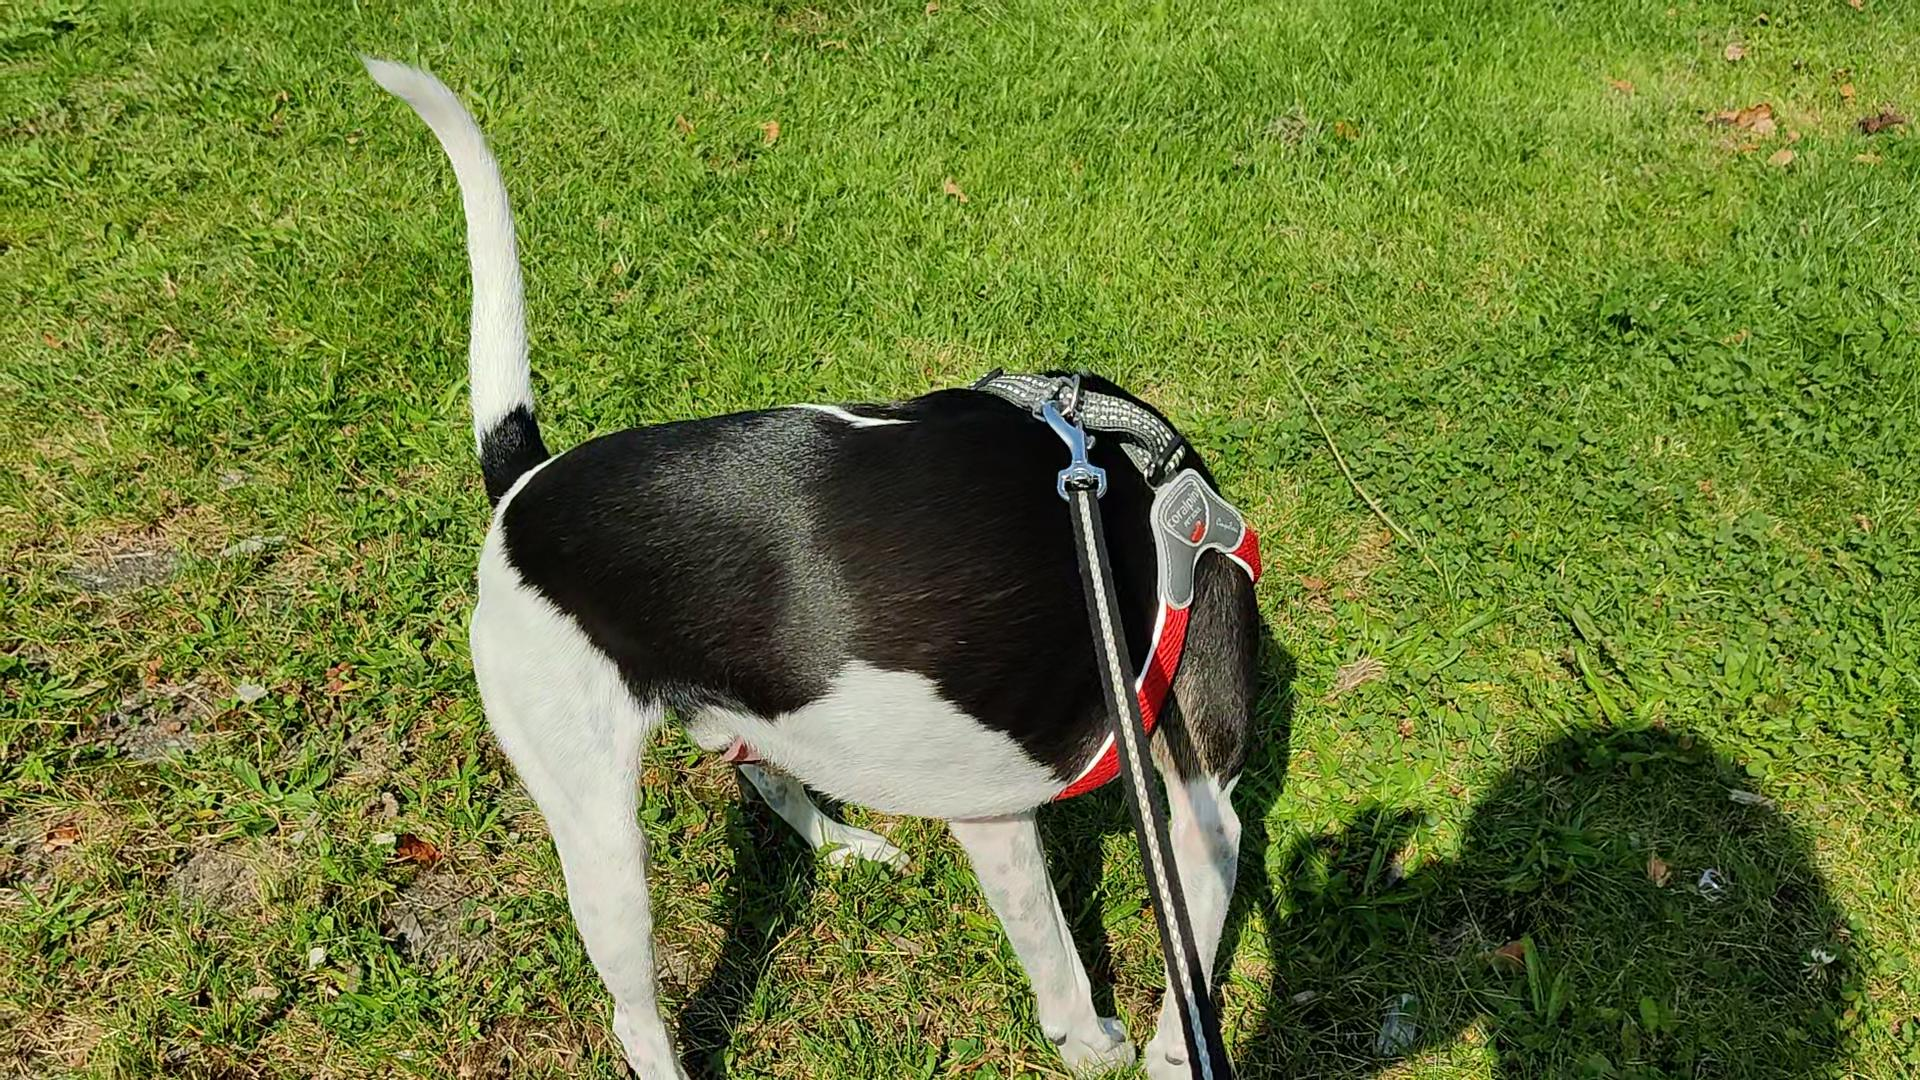Dog: (351, 49, 1269, 1079)
